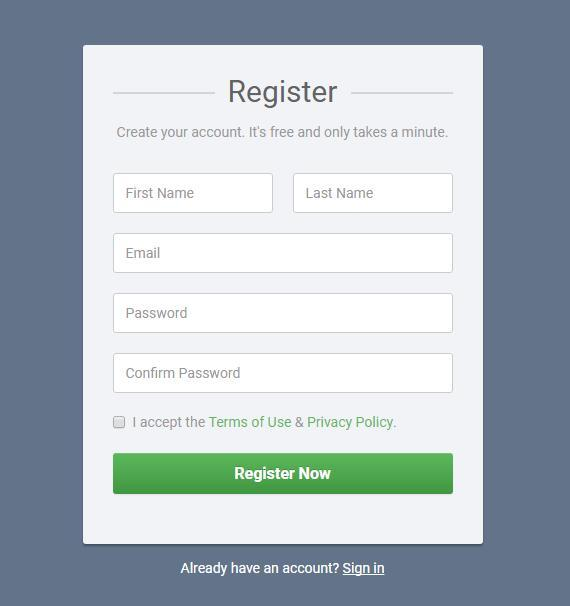button: (114, 453, 455, 496)
checkbox: (115, 419, 128, 430)
input: (113, 295, 456, 335), (115, 354, 454, 394), (114, 233, 454, 272), (294, 175, 453, 214), (114, 174, 276, 212)
label: (114, 121, 450, 142), (131, 415, 401, 433), (180, 559, 397, 578), (224, 77, 341, 111)
